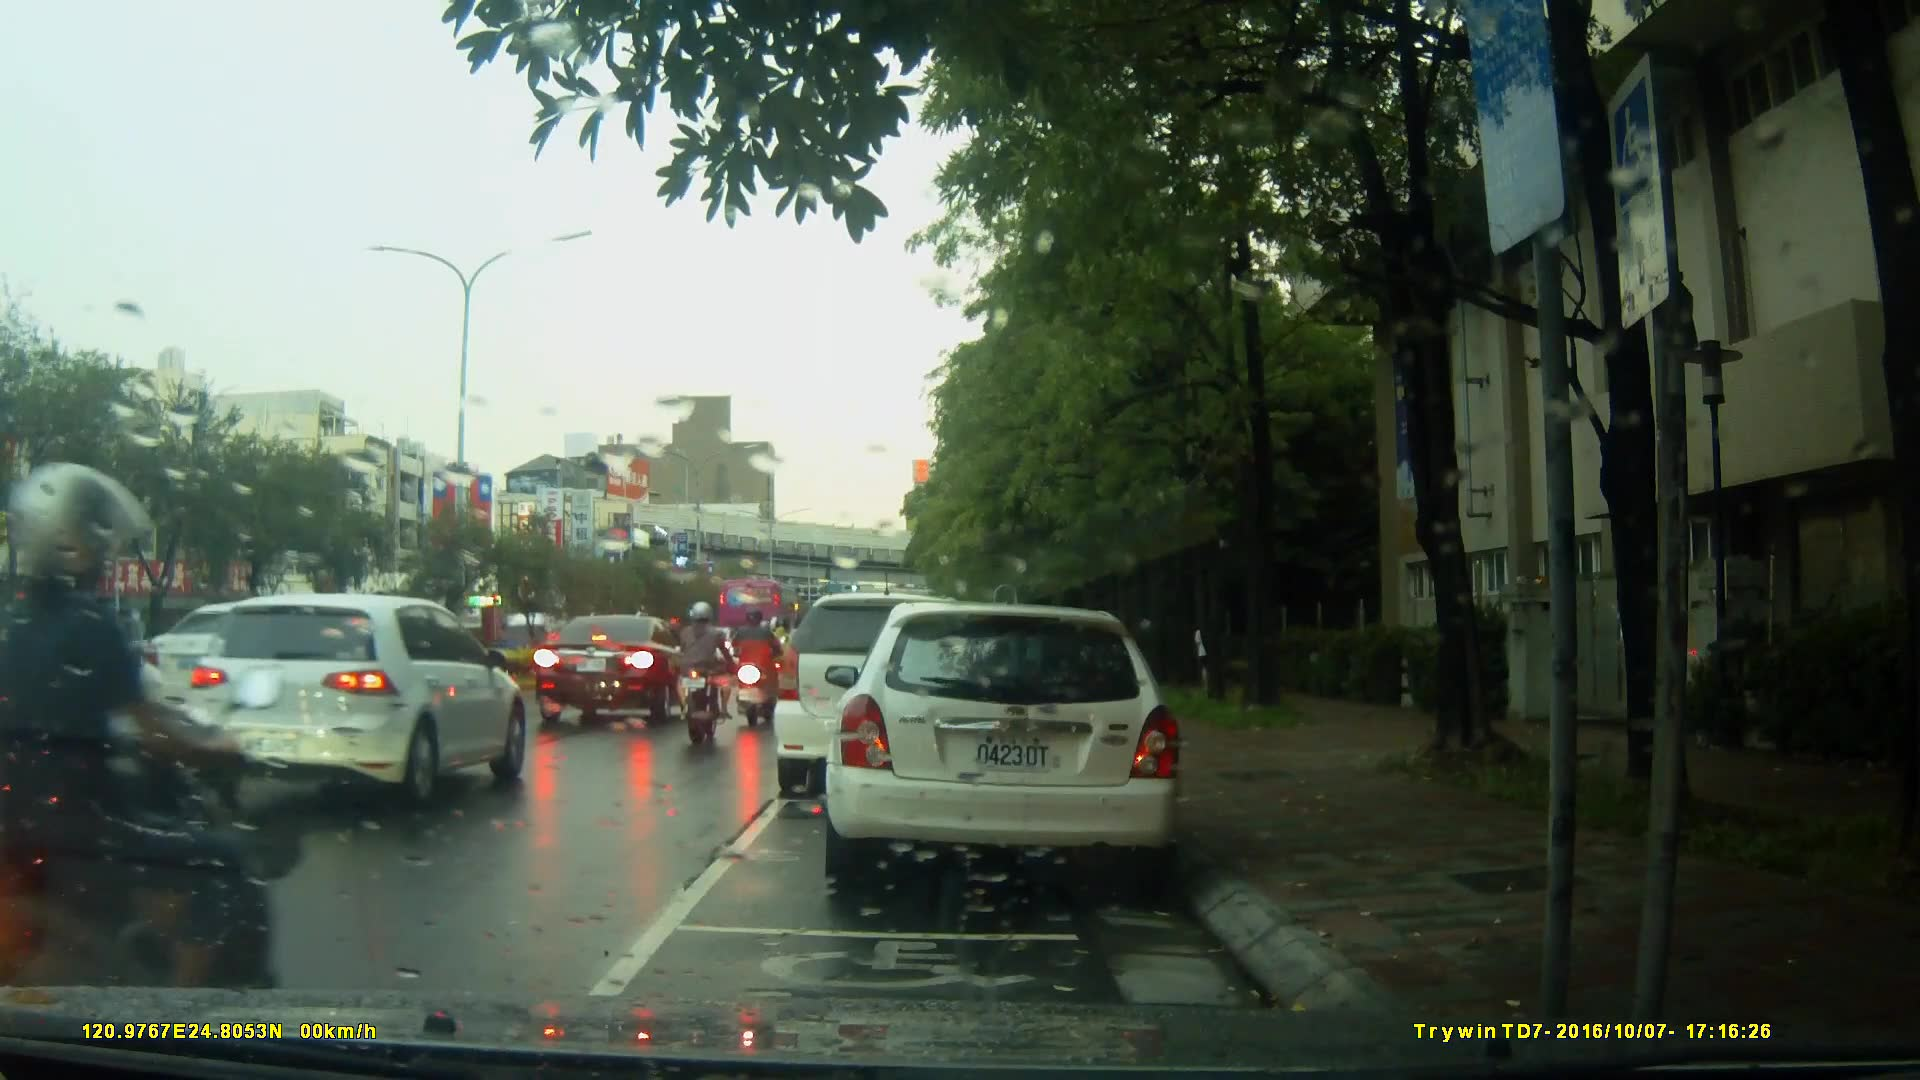rider: (6, 455, 293, 1052), (675, 600, 732, 753), (730, 603, 783, 732), (758, 610, 798, 712)
vehicle: (835, 594, 1194, 898), (179, 589, 527, 814), (776, 590, 1026, 784), (532, 611, 703, 730), (716, 577, 803, 647)
